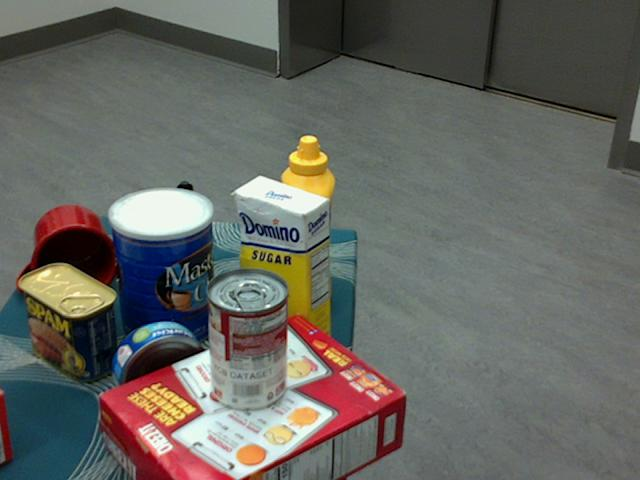cracker_box: (99, 315, 406, 479)
gelatin_box: (0, 387, 13, 461)
large_marker: (176, 180, 196, 276)
master_chef_can: (107, 188, 215, 353)
mug: (19, 204, 118, 301)
mustard_bottle: (279, 135, 333, 313)
potted_meat_can: (17, 261, 117, 380)
sugar_box: (234, 175, 330, 364)
tomato_soup_can: (204, 269, 287, 412)
tuna_fish_can: (111, 321, 210, 416)
